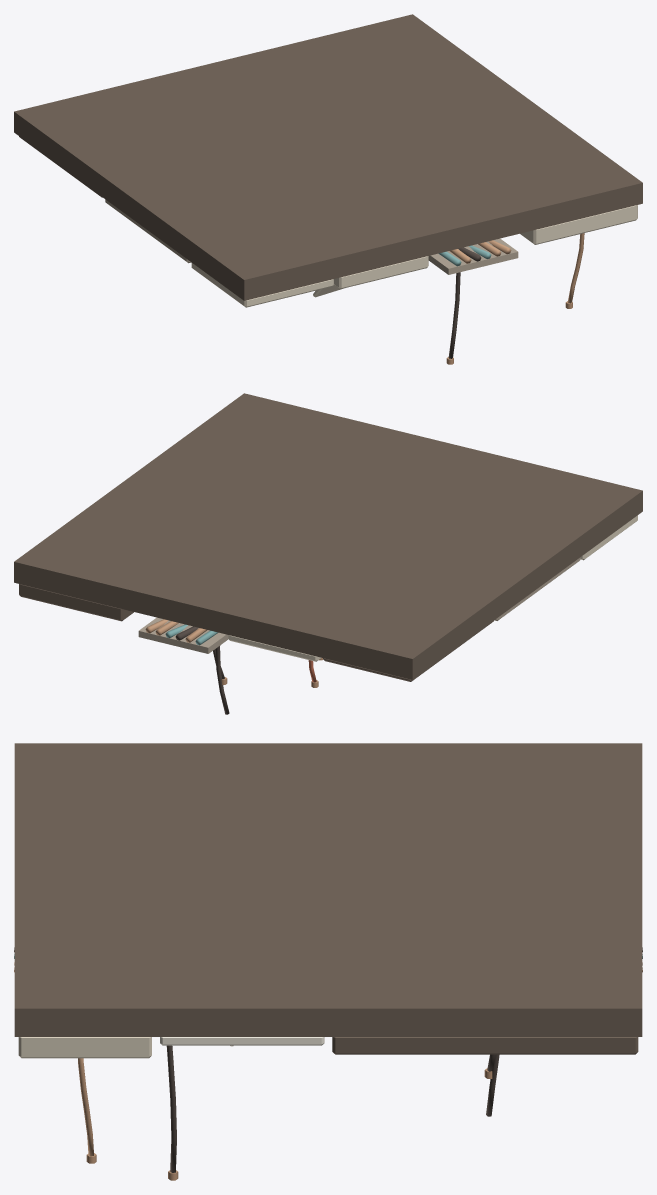
The model's file is ceil_du_cables.glb.
3 views of the same model, one above another, from view 1: azimuth 30°, elevation 25°; view 2: azimuth 150°, elevation 25°; view 3: azimuth 270°, elevation 25° (orthographic). The views are drawn at different scales.
Visible parts, largest first — view 1: ceil_du_cables; view 2: ceil_du_cables; view 3: ceil_du_cables.
Boxes of the visible parts, x1=… form: ceil_du_cables: x1=14, y1=14, x2=642, y2=364; ceil_du_cables: x1=14, y1=393, x2=642, y2=714; ceil_du_cables: x1=14, y1=743, x2=642, y2=1180.
Bounding box in the file's own units: 4 × 1.82 × 4.01.
